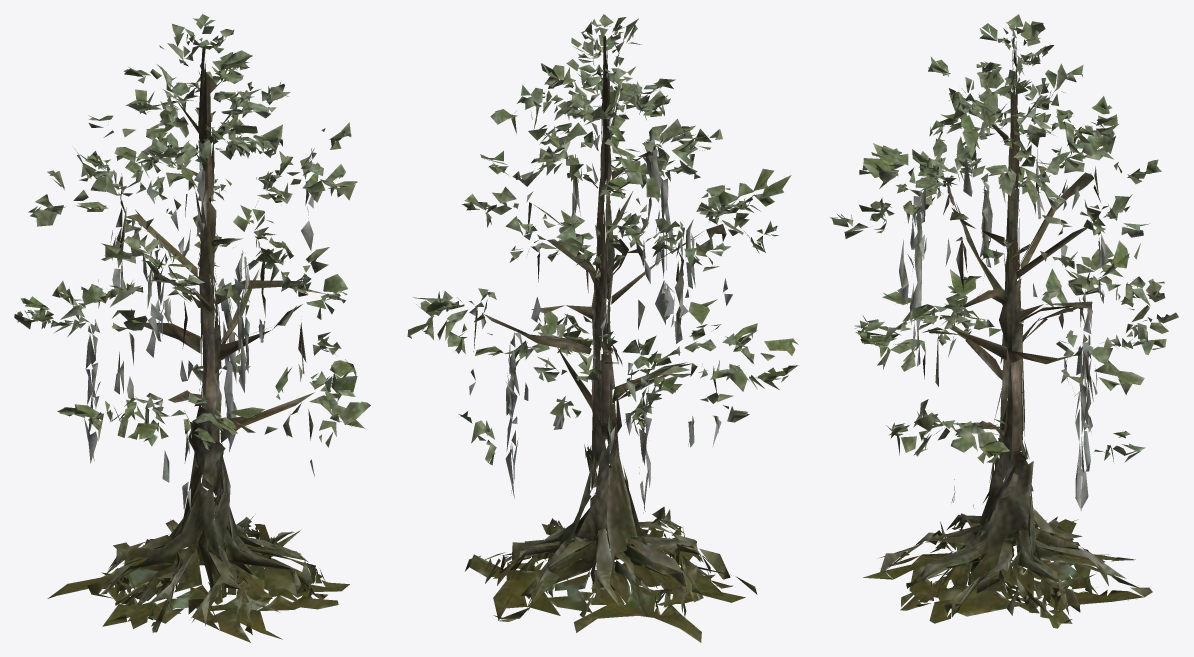
The model's file is cipreste_raizes_jovem.glb.
3 renders of one model, left to right at view 1: azimuth 30°, elevation 25°; view 2: azimuth 150°, elevation 25°; view 3: azimuth 270°, elevation 25°, orthographic.
Parts seen in each view (by area): view 1: geometry_0; view 2: geometry_0; view 3: geometry_0.
Boxes of the visible parts, left/top/right/bottom form: geometry_0: left=14, top=14, right=370, bottom=642; geometry_0: left=407, top=14, right=798, bottom=642; geometry_0: left=830, top=14, right=1178, bottom=628.
Bounding box in the file's own units: 0.584 × 0.9997 × 0.5612.
Materials: 1 (1 with a texture image).
